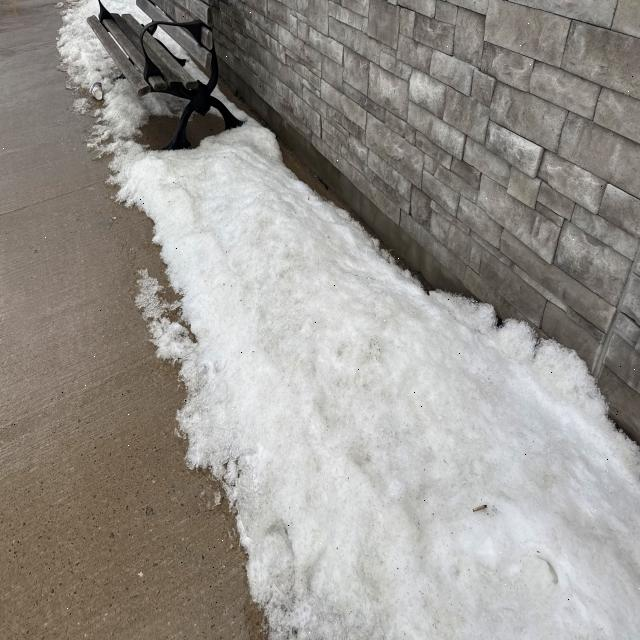Bench: (88, 0, 237, 136)
